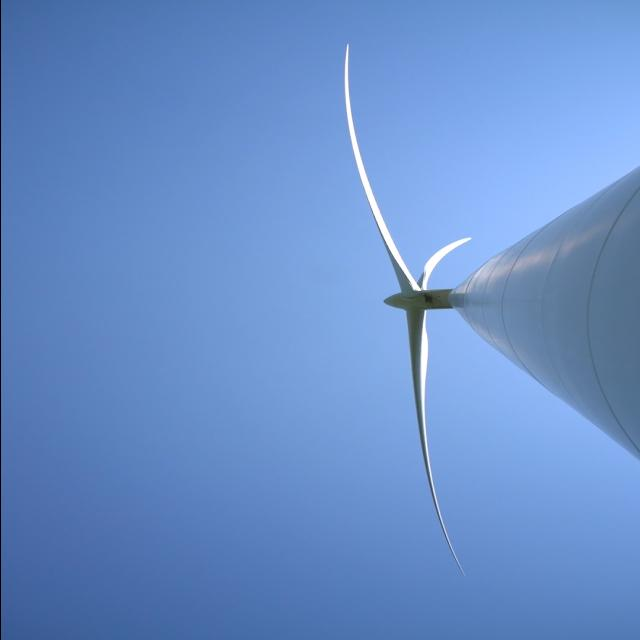blade 1: (413, 155, 488, 273)
blade 2: (317, 55, 404, 283)
blade 3: (383, 323, 477, 568)
